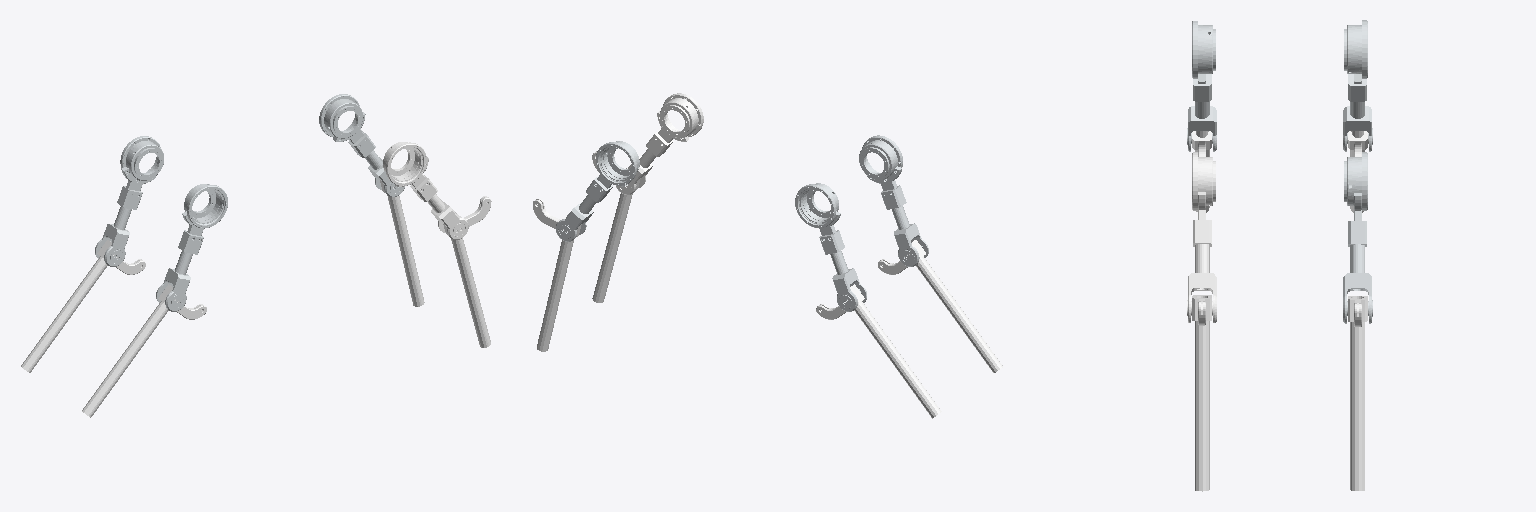
The robot description file, URDF, robot "FlexRobotwSupporter_v3_2":
<?xml version="1.0" ?>
<robot
  name="FlexRobotwSupporter_v3_2">
  <link
    name="Supporter">
    <inertial>
      <origin
        xyz="0.0038841 -0.11852 0.59184"
        rpy="0 0 0" />
      <mass
        value="22.692" />
      <inertia
        ixx="2.9583"
        ixy="-0.010899"
        ixz="0.0082679"
        iyy="3.7408"
        iyz="-0.29135"
        izz="1.6553" />
    </inertial>
    <visual>
      <origin
        xyz="0 0 0"
        rpy="0 0 0" />
      <geometry>
        <mesh
          filename="package://flexrobot_description_pkg/meshes/FlexRobotwSupporter_v3_2/Supporter.STL" />
      </geometry>
      <material
        name="">
        <color
          rgba="0.79216 0.81961 0.93333 1" />
      </material>
    </visual>
    <collision>
      <origin
        xyz="0 0 0"
        rpy="0 0 0" />
      <geometry>
        <mesh
          filename="package://flexrobot_description_pkg/meshes/FlexRobotwSupporter_v3_2/Supporter.STL" />
      </geometry>
    </collision>
  </link>
  <link
    name="FrontLeftHip">
    <inertial>
      <origin
        xyz="-0.028243 -0.091534 -0.067884"
        rpy="0 0 0" />
      <mass
        value="0.23878" />
      <inertia
        ixx="0.00094745"
        ixy="6.1379E-06"
        ixz="0.00035842"
        iyy="0.0011216"
        iyz="1.4753E-05"
        izz="0.00023513" />
    </inertial>
    <visual>
      <origin
        xyz="0 0 0"
        rpy="0 0 0" />
      <geometry>
        <mesh
          filename="package://flexrobot_description_pkg/meshes/FlexRobotwSupporter_v3_2/FrontLeftHip.STL" />
      </geometry>
      <material
        name="">
        <color
          rgba="0.89804 0.91765 0.92941 1" />
      </material>
    </visual>
    <collision>
      <origin
        xyz="0 0 0"
        rpy="0 0 0" />
      <geometry>
        <mesh
          filename="package://flexrobot_description_pkg/meshes/FlexRobotwSupporter_v3_2/FrontLeftHip.STL" />
      </geometry>
    </collision>
  </link>
  <joint
    name="FrontLeftHipJoint"
    type="continuous">
    <origin
      xyz="-0.18469 -0.25281 0.7952"
      rpy="-1.7347E-16 0 0" />
    <parent
      link="Supporter" />
    <child
      link="FrontLeftHip" />
    <axis
      xyz="0 -1 0" />
  </joint>
  <link
    name="FrontLeftKnee">
    <inertial>
      <origin
        xyz="-0.015371 0.0195 -0.038435"
        rpy="0 0 0" />
      <mass
        value="0.092493" />
      <inertia
        ixx="0.00021587"
        ixy="-1.0659E-12"
        ixz="0.00019602"
        iyy="0.00049392"
        iyz="-1.6503E-12"
        izz="0.00028676" />
    </inertial>
    <visual>
      <origin
        xyz="0 0 0"
        rpy="0 0 0" />
      <geometry>
        <mesh
          filename="package://flexrobot_description_pkg/meshes/FlexRobotwSupporter_v3_2/FrontLeftKnee.STL" />
      </geometry>
      <material
        name="">
        <color
          rgba="1 1 1 1" />
      </material>
    </visual>
    <collision>
      <origin
        xyz="0 0 0"
        rpy="0 0 0" />
      <geometry>
        <mesh
          filename="package://flexrobot_description_pkg/meshes/FlexRobotwSupporter_v3_2/FrontLeftKnee.STL" />
      </geometry>
    </collision>
  </link>
  <joint
    name="FrontLeftKneeJoint"
    type="continuous">
    <origin
      xyz="-0.064919 -0.11196 -0.15603"
      rpy="1.5025E-43 0 0" />
    <parent
      link="FrontLeftHip" />
    <child
      link="FrontLeftKnee" />
    <axis
      xyz="0 -1 0" />
  </joint>
  <link
    name="FrontRightHip">
    <inertial>
      <origin
        xyz="-0.028153 0.11153 -0.067976"
        rpy="0 0 0" />
      <mass
        value="0.23878" />
      <inertia
        ixx="0.00094649"
        ixy="-6.0913E-06"
        ixz="0.00035778"
        iyy="0.0011198"
        iyz="-1.4901E-05"
        izz="0.00023432" />
    </inertial>
    <visual>
      <origin
        xyz="0 0 0"
        rpy="0 0 0" />
      <geometry>
        <mesh
          filename="package://flexrobot_description_pkg/meshes/FlexRobotwSupporter_v3_2/FrontRightHip.STL" />
      </geometry>
      <material
        name="">
        <color
          rgba="0.89804 0.91765 0.92941 1" />
      </material>
    </visual>
    <collision>
      <origin
        xyz="0 0 0"
        rpy="0 0 0" />
      <geometry>
        <mesh
          filename="package://flexrobot_description_pkg/meshes/FlexRobotwSupporter_v3_2/FrontRightHip.STL" />
      </geometry>
    </collision>
  </link>
  <joint
    name="FrontRightHipJoint"
    type="continuous">
    <origin
      xyz="-0.18469 -0.25281 0.7952"
      rpy="-1.7347E-16 0 0" />
    <parent
      link="Supporter" />
    <child
      link="FrontRightHip" />
    <axis
      xyz="0 -1 0" />
  </joint>
  <link
    name="FrontRightKnee">
    <inertial>
      <origin
        xyz="-0.015327 0.0195 -0.038453"
        rpy="0 0 0" />
      <mass
        value="0.092493" />
      <inertia
        ixx="0.00021632"
        ixy="-1.0642E-12"
        ixz="0.00019611"
        iyy="0.00049392"
        iyz="-1.6516E-12"
        izz="0.00028631" />
    </inertial>
    <visual>
      <origin
        xyz="0 0 0"
        rpy="0 0 0" />
      <geometry>
        <mesh
          filename="package://flexrobot_description_pkg/meshes/FlexRobotwSupporter_v3_2/FrontRightKnee.STL" />
      </geometry>
      <material
        name="">
        <color
          rgba="1 1 1 1" />
      </material>
    </visual>
    <collision>
      <origin
        xyz="0 0 0"
        rpy="0 0 0" />
      <geometry>
        <mesh
          filename="package://flexrobot_description_pkg/meshes/FlexRobotwSupporter_v3_2/FrontRightKnee.STL" />
      </geometry>
    </collision>
  </link>
  <joint
    name="FrontRightKneeJoint"
    type="continuous">
    <origin
      xyz="-0.06474 0.09296 -0.15611"
      rpy="1.5025E-43 0 0" />
    <parent
      link="FrontRightHip" />
    <child
      link="FrontRightKnee" />
    <axis
      xyz="0 -1 0" />
  </joint>
  <link
    name="RearLeftHip">
    <inertial>
      <origin
        xyz="0.041967 -0.091534 -0.060371"
        rpy="0 0 0" />
      <mass
        value="0.23878" />
      <inertia
        ixx="0.00076734"
        ixy="-9.121E-06"
        ixz="-0.00047363"
        iyy="0.0011216"
        iyz="1.312E-05"
        izz="0.00041524" />
    </inertial>
    <visual>
      <origin
        xyz="0 0 0"
        rpy="0 0 0" />
      <geometry>
        <mesh
          filename="package://flexrobot_description_pkg/meshes/FlexRobotwSupporter_v3_2/RearLeftHip.STL" />
      </geometry>
      <material
        name="">
        <color
          rgba="1 1 1 1" />
      </material>
    </visual>
    <collision>
      <origin
        xyz="0 0 0"
        rpy="0 0 0" />
      <geometry>
        <mesh
          filename="package://flexrobot_description_pkg/meshes/FlexRobotwSupporter_v3_2/RearLeftHip.STL" />
      </geometry>
    </collision>
  </link>
  <joint
    name="RearLeftHipJoint"
    type="continuous">
    <origin
      xyz="0.2 -0.25281 0.78332"
      rpy="-1.7347E-16 0 0" />
    <parent
      link="Supporter" />
    <child
      link="RearLeftHip" />
    <axis
      xyz="0 -1 0" />
  </joint>
  <link
    name="RearLeftKnee">
    <inertial>
      <origin
        xyz="0.024096 0.0195 -0.033659"
        rpy="0 0 0" />
      <mass
        value="0.092493" />
      <inertia
        ixx="0.00044414"
        ixy="9.8491E-13"
        ixz="-5.0016E-05"
        iyy="0.00049392"
        iyz="-2.0129E-12"
        izz="5.8496E-05" />
    </inertial>
    <visual>
      <origin
        xyz="0 0 0"
        rpy="0 0 0" />
      <geometry>
        <mesh
          filename="package://flexrobot_description_pkg/meshes/FlexRobotwSupporter_v3_2/RearLeftKnee.STL" />
      </geometry>
      <material
        name="">
        <color
          rgba="1 1 1 1" />
      </material>
    </visual>
    <collision>
      <origin
        xyz="0 0 0"
        rpy="0 0 0" />
      <geometry>
        <mesh
          filename="package://flexrobot_description_pkg/meshes/FlexRobotwSupporter_v3_2/RearLeftKnee.STL" />
      </geometry>
    </collision>
  </link>
  <joint
    name="RearLeftKneeJoint"
    type="continuous">
    <origin
      xyz="0.096464 -0.11196 -0.13877"
      rpy="1.5025E-43 0 0" />
    <parent
      link="RearLeftHip" />
    <child
      link="RearLeftKnee" />
    <axis
      xyz="0 -1 0" />
  </joint>
  <link
    name="RearRightHip">
    <inertial>
      <origin
        xyz="0.040287 0.11153 -0.061566"
        rpy="0 0 0" />
      <mass
        value="0.23878" />
      <inertia
        ixx="0.00079364"
        ixy="8.876E-06"
        ixz="-0.00046206"
        iyy="0.0011198"
        iyz="-1.3429E-05"
        izz="0.00038716" />
    </inertial>
    <visual>
      <origin
        xyz="0 0 0"
        rpy="0 0 0" />
      <geometry>
        <mesh
          filename="package://flexrobot_description_pkg/meshes/FlexRobotwSupporter_v3_2/RearRightHip.STL" />
      </geometry>
      <material
        name="">
        <color
          rgba="0.89804 0.91765 0.92941 1" />
      </material>
    </visual>
    <collision>
      <origin
        xyz="0 0 0"
        rpy="0 0 0" />
      <geometry>
        <mesh
          filename="package://flexrobot_description_pkg/meshes/FlexRobotwSupporter_v3_2/RearRightHip.STL" />
      </geometry>
    </collision>
  </link>
  <joint
    name="RearRightHipJoint"
    type="continuous">
    <origin
      xyz="0.2 -0.25281 0.78332"
      rpy="-1.7347E-16 0 0" />
    <parent
      link="Supporter" />
    <child
      link="RearRightHip" />
    <axis
      xyz="0 -1 0" />
  </joint>
  <link
    name="RearRightKnee">
    <inertial>
      <origin
        xyz="0.023127 0.0195 -0.034332"
        rpy="0 0 0" />
      <mass
        value="0.092493" />
      <inertia
        ixx="0.00044668"
        ixy="9.2967E-13"
        ixz="-3.8948E-05"
        iyy="0.00049392"
        iyz="-2.0558E-12"
        izz="5.596E-05" />
    </inertial>
    <visual>
      <origin
        xyz="0 0 0"
        rpy="0 0 0" />
      <geometry>
        <mesh
          filename="package://flexrobot_description_pkg/meshes/FlexRobotwSupporter_v3_2/RearRightKnee.STL" />
      </geometry>
      <material
        name="">
        <color
          rgba="1 1 1 1" />
      </material>
    </visual>
    <collision>
      <origin
        xyz="0 0 0"
        rpy="0 0 0" />
      <geometry>
        <mesh
          filename="package://flexrobot_description_pkg/meshes/FlexRobotwSupporter_v3_2/RearRightKnee.STL" />
      </geometry>
    </collision>
  </link>
  <joint
    name="RearRightKneeJoint"
    type="continuous">
    <origin
      xyz="0.09247 0.09296 -0.14146"
      rpy="1.5025E-43 0 0" />
    <parent
      link="RearRightHip" />
    <child
      link="RearRightKnee" />
    <axis
      xyz="0 -1 0" />
  </joint>
</robot>

--- What the picture shows (computed from the rendered views, not written in the file) ---
Views: 3 orthographic renders of the robot side by side, from view 1: azimuth 30°, elevation 25°; view 2: azimuth 150°, elevation 25°; view 3: azimuth 270°, elevation 25°.
Robot: FlexRobotwSupporter_v3_2 — 9 links, 8 joints (8 continuous); root link Supporter; default pose: every joint at zero.
Links seen in each view (by area): view 1: FrontRightHip, FrontLeftHip, RearLeftHip, RearRightHip, FrontLeftKnee, FrontRightKnee, RearLeftKnee, RearRightKnee; view 2: FrontLeftHip, FrontRightHip, RearRightHip, RearLeftHip, FrontRightKnee, FrontLeftKnee, RearRightKnee, RearLeftKnee; view 3: RearLeftKnee, RearRightKnee, RearLeftHip, RearRightHip, FrontRightHip, FrontLeftHip.
Link boxes in pixels (x1,y1,x2,y2): FrontRightHip: [95, 136, 163, 266]; FrontLeftHip: [156, 184, 227, 311]; RearLeftHip: [383, 142, 468, 239]; RearRightHip: [319, 94, 404, 196]; FrontLeftKnee: [82, 284, 206, 417]; FrontRightKnee: [21, 240, 145, 372]; RearLeftKnee: [443, 196, 491, 347]; RearRightKnee: [380, 157, 428, 306]; FrontLeftHip: [859, 135, 928, 266]; FrontRightHip: [795, 183, 866, 311]; RearRightHip: [556, 141, 639, 241]; RearLeftHip: [616, 93, 703, 194]; FrontRightKnee: [816, 284, 941, 418]; FrontLeftKnee: [878, 240, 1002, 372]; RearRightKnee: [533, 199, 581, 351]; RearLeftKnee: [592, 151, 640, 302]; RearLeftKnee: [1192, 295, 1211, 491]; RearRightKnee: [1348, 296, 1367, 490]; RearLeftHip: [1187, 152, 1216, 322]; RearRightHip: [1343, 152, 1372, 323]; FrontRightHip: [1343, 20, 1372, 151]; FrontLeftHip: [1187, 21, 1216, 151].
Size in the robot's own frame: 0.7898 by 0.2449 by 0.431 metres.
Meshes: 9 distinct files referenced, 8 mesh visuals loaded (8 binary STL); not drawn: 1 (reference not matched to a file when rendering).